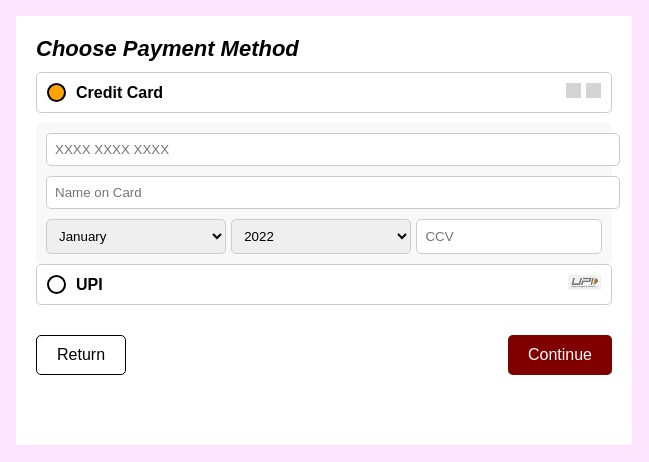
Test: PaymentMethod Component › validates missing CCV field
The width and height of the screenshot is (649, 462).
Click the button "Continue" at (560,355), box [508,335,612,375]
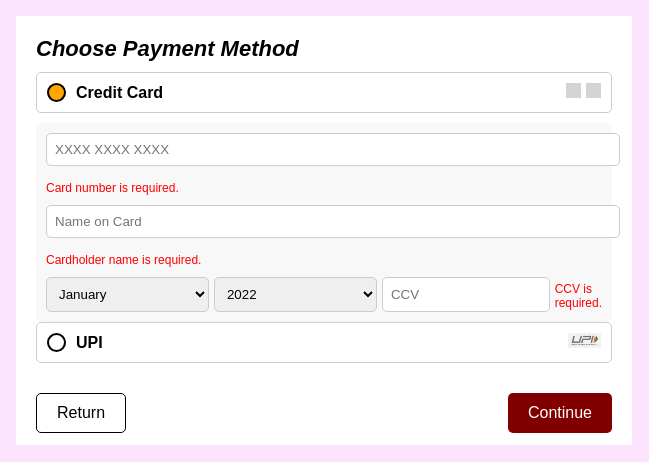
Expected: the text "CCV is required." is shown, [555,282,602,312]
